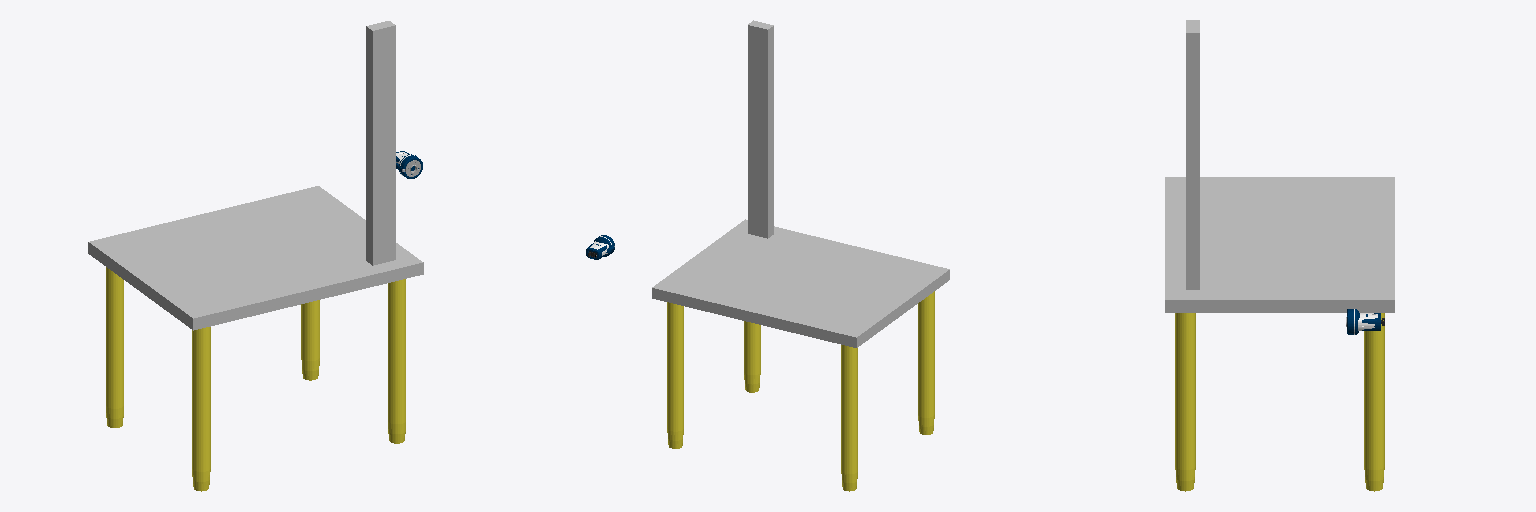
URDF robot description (mounted_ur5e):
<?xml version="1.0" ?>
<!-- =================================================================================== -->
<!-- |    This document was autogenerated by xacro from mounted_ur5e.xacro             | -->
<!-- |    EDITING THIS FILE BY HAND IS NOT RECOMMENDED                                 | -->
<!-- =================================================================================== -->
<robot name="mounted_ur5e">
  <!--
    Base UR robot series xacro macro.

    NOTE: this is NOT a URDF. It cannot directly be loaded by consumers
    expecting a flattened '.urdf' file. See the top-level '.xacro' for that
    (but note: that .xacro must still be processed by the xacro command).

    For use in '.launch' files: use one of the 'load_urX.launch' convenience
    launch files.

    This file models the base kinematic chain of a UR robot, which then gets
    parameterised by various configuration files to convert it into a UR3(e),
    UR5(e), UR10(e) or UR16e.

    NOTE: the default kinematic parameters (ie: link lengths, frame locations,
    offets, etc) do not correspond to any particular robot. They are defaults
    only. There WILL be non-zero offsets between the Forward Kinematics results
    in TF (ie: robot_state_publisher) and the values reported by the Teach
    Pendant.

    For accurate (and robot-specific) transforms, the 'kinematics_parameters_file'
    parameter MUST point to a .yaml file containing the appropriate values for
    the targetted robot.

    If using the UniversalRobots/Universal_Robots_ROS_Driver, follow the steps
    described in the readme of that repository to extract the kinematic
    calibration from the controller and generate the required .yaml file.

    Main author of the migration to yaml configs: [author].

    Contributors to previous versions (in no particular order):

     - [author]
     - [author]
     - [author]
     - [author]
     - [author]
     - [author]
     - [author]
     - [author]
     - [author]
     - [author]
     - [author]
     - [author]
     - [author]
     - [author]
     - [author]
     - [author]
     - [author]
  -->
  <!--
    NOTE: the macro defined in this file is NOT part of the public API of this
          package. Users CANNOT rely on this file being available, or stored in
          this location. Nor can they rely on the existence of the macro.
  -->
  <transmission name="shoulder_pan_trans">
    <type>transmission_interface/SimpleTransmission</type>
    <joint name="shoulder_pan_joint">
      <hardwareInterface>hardware_interface/PositionJointInterface</hardwareInterface>
    </joint>
    <actuator name="shoulder_pan_motor">
      <mechanicalReduction>1</mechanicalReduction>
    </actuator>
  </transmission>
  <transmission name="shoulder_lift_trans">
    <type>transmission_interface/SimpleTransmission</type>
    <joint name="shoulder_lift_joint">
      <hardwareInterface>hardware_interface/PositionJointInterface</hardwareInterface>
    </joint>
    <actuator name="shoulder_lift_motor">
      <mechanicalReduction>1</mechanicalReduction>
    </actuator>
  </transmission>
  <transmission name="elbow_trans">
    <type>transmission_interface/SimpleTransmission</type>
    <joint name="elbow_joint">
      <hardwareInterface>hardware_interface/PositionJointInterface</hardwareInterface>
    </joint>
    <actuator name="elbow_motor">
      <mechanicalReduction>1</mechanicalReduction>
    </actuator>
  </transmission>
  <transmission name="wrist_1_trans">
    <type>transmission_interface/SimpleTransmission</type>
    <joint name="wrist_1_joint">
      <hardwareInterface>hardware_interface/PositionJointInterface</hardwareInterface>
    </joint>
    <actuator name="wrist_1_motor">
      <mechanicalReduction>1</mechanicalReduction>
    </actuator>
  </transmission>
  <transmission name="wrist_2_trans">
    <type>transmission_interface/SimpleTransmission</type>
    <joint name="wrist_2_joint">
      <hardwareInterface>hardware_interface/PositionJointInterface</hardwareInterface>
    </joint>
    <actuator name="wrist_2_motor">
      <mechanicalReduction>1</mechanicalReduction>
    </actuator>
  </transmission>
  <transmission name="wrist_3_trans">
    <type>transmission_interface/SimpleTransmission</type>
    <joint name="wrist_3_joint">
      <hardwareInterface>hardware_interface/PositionJointInterface</hardwareInterface>
    </joint>
    <actuator name="wrist_3_motor">
      <mechanicalReduction>1</mechanicalReduction>
    </actuator>
  </transmission>
  <!-- links: main serial chain -->
  <link name="base_link"/>
  <link name="base_link_inertia">
    <visual>
      <origin rpy="0 0 3.141592653589793" xyz="0 0 0"/>
      <geometry>
        <mesh filename="package://ur_description/meshes/ur5e/visual/base.dae"/>
      </geometry>
      <material name="LightGrey">
        <color rgba="0.7 0.7 0.7 1.0"/>
      </material>
    </visual>
    <collision>
      <origin rpy="0 0 3.141592653589793" xyz="0 0 0"/>
      <geometry>
        <mesh filename="package://ur_description/meshes/ur5e/collision/base.stl"/>
      </geometry>
    </collision>
    <inertial>
      <mass value="4.0"/>
      <origin rpy="0 0 0" xyz="0 0 0"/>
      <inertia ixx="0.00443333156" ixy="0.0" ixz="0.0" iyy="0.00443333156" iyz="0.0" izz="0.0072"/>
    </inertial>
  </link>
  <link name="shoulder_link">
    <visual>
      <origin rpy="0 0 3.141592653589793" xyz="0 0 0"/>
      <geometry>
        <mesh filename="package://ur_description/meshes/ur5e/visual/shoulder.dae"/>
      </geometry>
      <material name="LightGrey">
        <color rgba="0.7 0.7 0.7 1.0"/>
      </material>
    </visual>
    <collision>
      <origin rpy="0 0 3.141592653589793" xyz="0 0 0"/>
      <geometry>
        <mesh filename="package://ur_description/meshes/ur5e/collision/shoulder.stl"/>
      </geometry>
    </collision>
    <inertial>
      <mass value="3.7"/>
      <origin rpy="0 0 0" xyz="0 0 0"/>
      <inertia ixx="0.010267495893" ixy="0.0" ixz="0.0" iyy="0.010267495893" iyz="0.0" izz="0.00666"/>
    </inertial>
  </link>
  <link name="upper_arm_link">
    <visual>
      <origin rpy="1.5707963267948966 0 -1.5707963267948966" xyz="0 0 0.138"/>
      <geometry>
        <mesh filename="package://ur_description/meshes/ur5e/visual/upperarm.dae"/>
      </geometry>
      <material name="LightGrey">
        <color rgba="0.7 0.7 0.7 1.0"/>
      </material>
    </visual>
    <collision>
      <origin rpy="1.5707963267948966 0 -1.5707963267948966" xyz="0 0 0.138"/>
      <geometry>
        <mesh filename="package://ur_description/meshes/ur5e/collision/upperarm.stl"/>
      </geometry>
    </collision>
    <inertial>
      <mass value="8.393"/>
      <origin rpy="0 1.5707963267948966 0" xyz="-0.2125 0.0 0.138"/>
      <inertia ixx="0.1338857818623325" ixy="0.0" ixz="0.0" iyy="0.1338857818623325" iyz="0.0" izz="0.0151074"/>
    </inertial>
  </link>
  <link name="forearm_link">
    <visual>
      <origin rpy="1.5707963267948966 0 -1.5707963267948966" xyz="0 0 0.007"/>
      <geometry>
        <mesh filename="package://ur_description/meshes/ur5e/visual/forearm.dae"/>
      </geometry>
      <material name="LightGrey">
        <color rgba="0.7 0.7 0.7 1.0"/>
      </material>
    </visual>
    <collision>
      <origin rpy="1.5707963267948966 0 -1.5707963267948966" xyz="0 0 0.007"/>
      <geometry>
        <mesh filename="package://ur_description/meshes/ur5e/collision/forearm.stl"/>
      </geometry>
    </collision>
    <inertial>
      <mass value="2.275"/>
      <origin rpy="0 1.5707963267948966 0" xyz="-0.1961 0.0 0.007"/>
      <inertia ixx="0.031209355099586295" ixy="0.0" ixz="0.0" iyy="0.031209355099586295" iyz="0.0" izz="0.004095"/>
    </inertial>
  </link>
  <link name="wrist_1_link">
    <visual>
      <!-- TODO: Move this to a parameter -->
      <origin rpy="1.5707963267948966 0 0" xyz="0 0 -0.127"/>
      <geometry>
        <mesh filename="package://ur_description/meshes/ur5e/visual/wrist1.dae"/>
      </geometry>
      <material name="LightGrey">
        <color rgba="0.7 0.7 0.7 1.0"/>
      </material>
    </visual>
    <collision>
      <origin rpy="1.5707963267948966 0 0" xyz="0 0 -0.127"/>
      <geometry>
        <mesh filename="package://ur_description/meshes/ur5e/collision/wrist1.stl"/>
      </geometry>
    </collision>
    <inertial>
      <mass value="1.219"/>
      <origin rpy="0 0 0" xyz="0 0 0"/>
      <inertia ixx="0.0025598989760400002" ixy="0.0" ixz="0.0" iyy="0.0025598989760400002" iyz="0.0" izz="0.0021942"/>
    </inertial>
  </link>
  <link name="wrist_2_link">
    <visual>
      <origin rpy="0 0 0" xyz="0 0 -0.0997"/>
      <geometry>
        <mesh filename="package://ur_description/meshes/ur5e/visual/wrist2.dae"/>
      </geometry>
      <material name="LightGrey">
        <color rgba="0.7 0.7 0.7 1.0"/>
      </material>
    </visual>
    <collision>
      <origin rpy="0 0 0" xyz="0 0 -0.0997"/>
      <geometry>
        <mesh filename="package://ur_description/meshes/ur5e/collision/wrist2.stl"/>
      </geometry>
    </collision>
    <inertial>
      <mass value="1.219"/>
      <origin rpy="0 0 0" xyz="0 0 0"/>
      <inertia ixx="0.0025598989760400002" ixy="0.0" ixz="0.0" iyy="0.0025598989760400002" iyz="0.0" izz="0.0021942"/>
    </inertial>
  </link>
  <link name="wrist_3_link">
    <visual>
      <origin rpy="1.5707963267948966 0 0" xyz="0 0 -0.0989"/>
      <geometry>
        <mesh filename="package://ur_description/meshes/ur5e/visual/wrist3.dae"/>
      </geometry>
      <material name="LightGrey">
        <color rgba="0.7 0.7 0.7 1.0"/>
      </material>
    </visual>
    <collision>
      <origin rpy="1.5707963267948966 0 0" xyz="0 0 -0.0989"/>
      <geometry>
        <mesh filename="package://ur_description/meshes/ur5e/collision/wrist3.stl"/>
      </geometry>
    </collision>
    <inertial>
      <mass value="0.1879"/>
      <origin rpy="0 0 0" xyz="0.0 0.0 -0.0229"/>
      <inertia ixx="9.890410052167731e-05" ixy="0.0" ixz="0.0" iyy="9.890410052167731e-05" iyz="0.0" izz="0.0001321171875"/>
    </inertial>
  </link>
  <!-- joints: main serial chain -->
  <joint name="base_link-base_link_inertia" type="fixed">
    <parent link="base_link"/>
    <child link="base_link_inertia"/>
    <!-- 'base_link' is REP-103 aligned (so X+ forward), while the internal
           frames of the robot/controller have X+ pointing backwards.
           Use the joint between 'base_link' and 'base_link_inertia' (a dummy
           link/frame) to introduce the necessary rotation over Z (of pi rad).
      -->
    <origin rpy="0 0 3.141592653589793" xyz="0 0 0"/>
  </joint>
  <joint name="shoulder_pan_joint" type="revolute">
    <parent link="base_link_inertia"/>
    <child link="shoulder_link"/>
    <origin rpy="0 0 0" xyz="0 0 0.1625"/>
    <axis xyz="0 0 1"/>
    <limit effort="150.0" lower="-6.283185307179586" upper="6.283185307179586" velocity="3.141592653589793"/>
    <dynamics damping="0" friction="0"/>
  </joint>
  <joint name="shoulder_lift_joint" type="revolute">
    <parent link="shoulder_link"/>
    <child link="upper_arm_link"/>
    <origin rpy="1.570796327 0 0" xyz="0 0 0"/>
    <axis xyz="0 0 1"/>
    <limit effort="150.0" lower="-6.283185307179586" upper="6.283185307179586" velocity="3.141592653589793"/>
    <dynamics damping="0" friction="0"/>
  </joint>
  <joint name="elbow_joint" type="revolute">
    <parent link="upper_arm_link"/>
    <child link="forearm_link"/>
    <origin rpy="0 0 0" xyz="-0.425 0 0"/>
    <axis xyz="0 0 1"/>
    <limit effort="150.0" lower="-3.141592653589793" upper="3.141592653589793" velocity="3.141592653589793"/>
    <dynamics damping="0" friction="0"/>
  </joint>
  <joint name="wrist_1_joint" type="revolute">
    <parent link="forearm_link"/>
    <child link="wrist_1_link"/>
    <origin rpy="0 0 0" xyz="-0.3922 0 0.1333"/>
    <axis xyz="0 0 1"/>
    <limit effort="28.0" lower="-6.283185307179586" upper="6.283185307179586" velocity="3.141592653589793"/>
    <dynamics damping="0" friction="0"/>
  </joint>
  <joint name="wrist_2_joint" type="revolute">
    <parent link="wrist_1_link"/>
    <child link="wrist_2_link"/>
    <origin rpy="1.570796327 0 0" xyz="0 -0.0997 -2.044881182297852e-11"/>
    <axis xyz="0 0 1"/>
    <limit effort="28.0" lower="-6.283185307179586" upper="6.283185307179586" velocity="3.141592653589793"/>
    <dynamics damping="0" friction="0"/>
  </joint>
  <joint name="wrist_3_joint" type="revolute">
    <parent link="wrist_2_link"/>
    <child link="wrist_3_link"/>
    <origin rpy="1.570796326589793 3.141592653589793 3.141592653589793" xyz="0 0.0996 -2.042830148012698e-11"/>
    <axis xyz="0 0 1"/>
    <limit effort="28.0" lower="-6.283185307179586" upper="6.283185307179586" velocity="3.141592653589793"/>
    <dynamics damping="0" friction="0"/>
  </joint>
  <!-- ROS-Industrial 'base' frame: base_link to UR 'Base' Coordinates transform -->
  <link name="base"/>
  <joint name="base_link-base_fixed_joint" type="fixed">
    <!-- Note the rotation over Z of pi radians: as base_link is REP-103
           aligned (ie: has X+ forward, Y+ left and Z+ up), this is needed
           to correctly align 'base' with the 'Base' coordinate system of
           the UR controller.
      -->
    <origin rpy="0 0 3.141592653589793" xyz="0 0 0"/>
    <parent link="base_link"/>
    <child link="base"/>
  </joint>
  <!-- ROS-Industrial 'flange' frame: attachment point for EEF models -->
  <link name="flange"/>
  <joint name="wrist_3-flange" type="fixed">
    <parent link="wrist_3_link"/>
    <child link="flange"/>
    <origin rpy="0 -1.5707963267948966 -1.5707963267948966" xyz="0 0 0"/>
  </joint>
  <!-- ROS-Industrial 'tool0' frame: all-zeros tool frame -->
  <link name="tool0"/>
  <joint name="flange-tool0" type="fixed">
    <!-- default toolframe: X+ left, Y+ up, Z+ front -->
    <origin rpy="1.5707963267948966 0 1.5707963267948966" xyz="0 0 0"/>
    <parent link="flange"/>
    <child link="tool0"/>
  </joint>
  <!-- Create a fixed joint with the robot -->
  <joint name="mounting_table_joint" type="fixed">
    <parent link="base_link"/>
    <child link="mounting_table"/>
    <!-- This table is directly attached to the UR5e robot -->
    <origin rpy="0 0 0" xyz="0 0 -0.75"/>
  </joint>
  <link name="mounting_table">
    <visual>
      <geometry>
        <mesh filename="package://pkg_ur5e_r/meshes/visual/table.dae" scale="0.5 0.5 0.5"/>
      </geometry>
    </visual>
    <collision>
      <geometry>
        <mesh filename="package://pkg_ur5e_r/meshes/visual/table.dae" scale="0.5 0.5 0.5"/>
      </geometry>
    </collision>
    <inertial>
      <mass value="20.0"/>
      <origin rpy="0 0 0" xyz="0 0 0"/>
      <inertia ixx="0.0515598989760400002" ixy="0.0" ixz="0.0" iyy="0.0515598989760400002" iyz="0.0" izz="0.06141942"/>
    </inertial>
  </link>
  <!-- Create a fixed joint with the robot -->
  <joint name="schunk_gripper_joint" type="fixed">
    <parent link="tool0"/>
    <child link="schunk_gripper"/>
    <!-- This gripper is directly attached to the UR5e robot -->
    <origin rpy="1.5707 0 0" xyz="0 0 0.116"/>
  </joint>
  <link name="schunk_gripper">
    <visual>
      <geometry>
        <mesh filename="package://pkg_ur5e_r/meshes/visual/schunk_gripper.dae"/>
      </geometry>
    </visual>
    <collision>
      <geometry>
        <mesh filename="package://pkg_ur5e_r/meshes/visual/schunk_gripper.dae"/>
      </geometry>
    </collision>
    <inertial>
      <mass value="0.86"/>
      <origin rpy="0 0 0" xyz="0 0 0"/>
      <inertia ixx="0.0015598989760400002" ixy="0.0" ixz="0.0" iyy="0.0015598989760400002" iyz="0.0" izz="0.00141942"/>
    </inertial>
  </link>
  <!-- TCP Frame -->
  <joint name="tcp_joint" type="fixed">
    <origin rpy="0 0 0" xyz="0 0 0"/>
    <parent link="schunk_gripper"/>
    <child link="tcp"/>
  </joint>
  <link name="tcp"/>
  <!-- Configure self collision properties per link -->
  <gazebo reference="shoulder_link">
    <selfCollide>true</selfCollide>
  </gazebo>
  <gazebo reference="upper_arm_link">
    <selfCollide>true</selfCollide>
  </gazebo>
  <gazebo reference="forearm_link">
    <selfCollide>true</selfCollide>
  </gazebo>
  <gazebo reference="wrist_1_link">
    <selfCollide>true</selfCollide>
  </gazebo>
  <gazebo reference="wrist_3_link">
    <selfCollide>true</selfCollide>
  </gazebo>
  <gazebo reference="wrist_2_link">
    <selfCollide>true</selfCollide>
  </gazebo>
  <gazebo reference="mounting_table">
    <selfCollide>true</selfCollide>
  </gazebo>
  <gazebo reference="schunk_gripper">
    <selfCollide>true</selfCollide>
  </gazebo>
  <gazebo>
    <plugin filename="libgazebo_ros_control.so" name="ros_control">
      <!--robotNamespace>/</robotNamespace-->
      <!--robotSimType>gazebo_ros_control/DefaultRobotHWSim</robotSimType-->
    </plugin>
  </gazebo>
  <!-- define the ur5e's position and orientation in the world coordinate system -->
  <link name="world"/>
  <joint name="world_joint" type="fixed">
    <parent link="world"/>
    <child link="base_link"/>
    <origin rpy="0.0 0.0 0.0" xyz="0.0 0.0 0.0"/>
  </joint>
</robot>

--- Render facts (derived) ---
The picture shows the robot from 3 angles, left to right: view 1: azimuth 30°, elevation 25°; view 2: azimuth 150°, elevation 25°; view 3: azimuth 270°, elevation 25°; orthographic projection.
Model mounted_ur5e with 15 links and 14 joints (6 revolute, 8 fixed), rooted at world, posed every joint at zero.
Links seen in each view (by area): view 1: mounting_table, schunk_gripper; view 2: mounting_table; view 3: mounting_table, schunk_gripper.
Link boxes in pixels (x1,y1,x2,y2): mounting_table: [88, 21, 423, 491]; schunk_gripper: [396, 151, 422, 178]; mounting_table: [652, 20, 949, 491]; mounting_table: [1165, 20, 1394, 491]; schunk_gripper: [1346, 309, 1384, 334].
Bounding box of the posed robot: 1.36 × 0.79 × 1.73 m (x, y, z).
Meshes: 9 distinct files referenced, 2 mesh visuals loaded (2 Collada DAE); not drawn: 7 (reference not matched to a file when rendering).